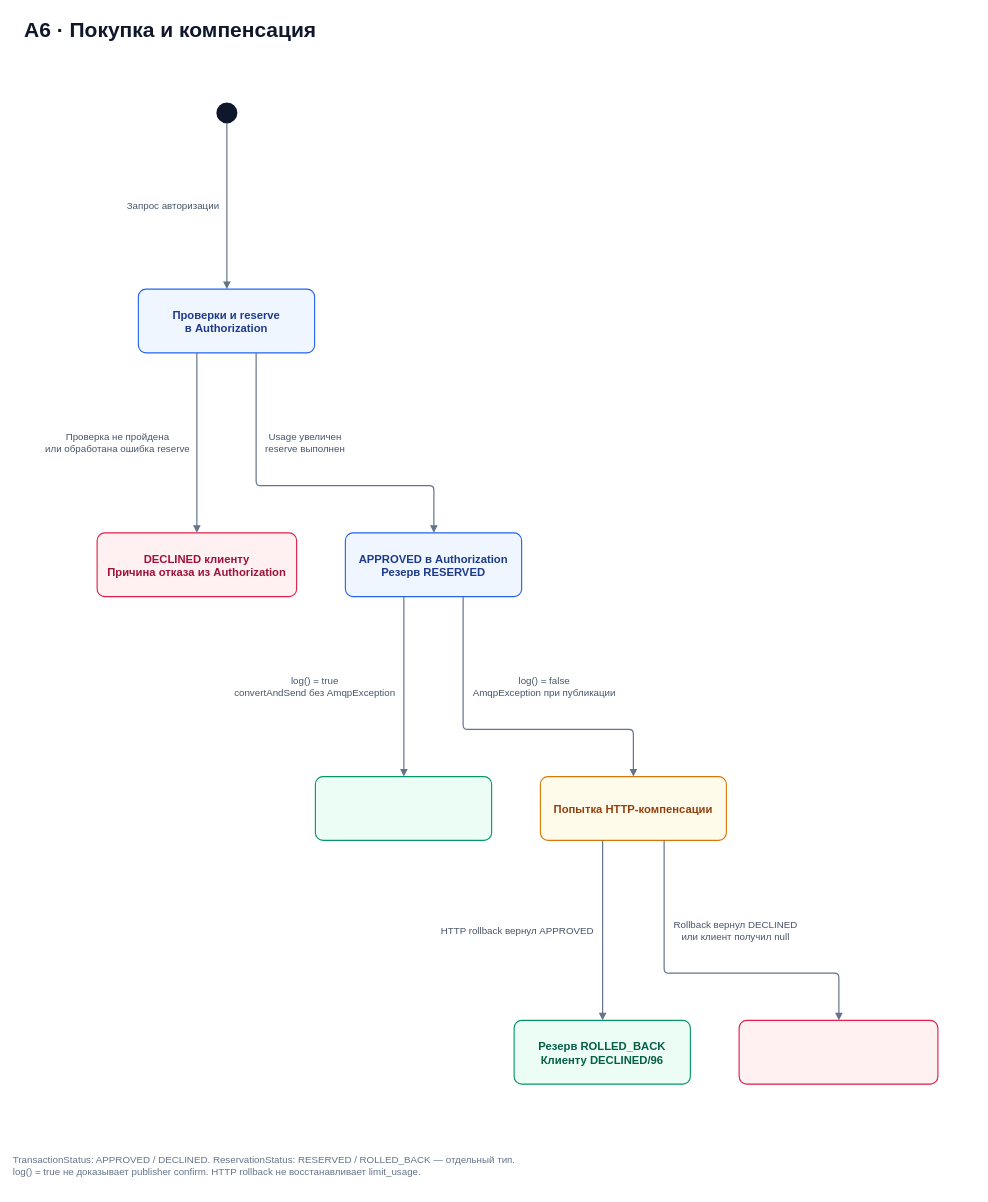
Image size: 988x1202. Some labels were removed from this diagram. Each missing label, with the centre of its shape:
"APPROVED клиенту" goes at point 403,808.
"Компенсация не подтверждена Клиенту DECLINED/96" goes at point 838,1051.
